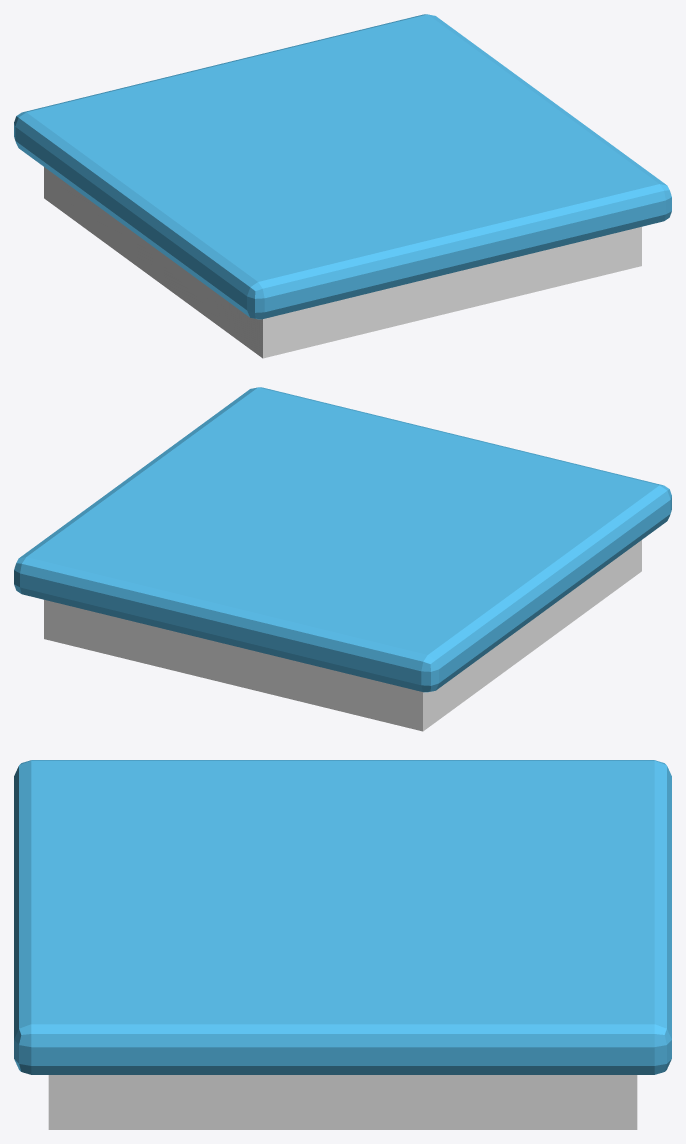
Rendered from tile_sq.glb.
The picture shows the model from 3 angles, top to bottom: view 1: azimuth 30°, elevation 25°; view 2: azimuth 150°, elevation 25°; view 3: azimuth 270°, elevation 25°; orthographic projection. The views are drawn at different scales.
Parts seen in each view (by area): view 1: tile_sq; view 2: tile_sq; view 3: tile_sq.
Part boxes in pixels (box(x1,y1,x2,y2)): tile_sq: box(14, 14, 671, 358); tile_sq: box(14, 387, 671, 731); tile_sq: box(14, 760, 671, 1129).
Bounding box in the file's own units: 1.9 × 0.36 × 1.9.
